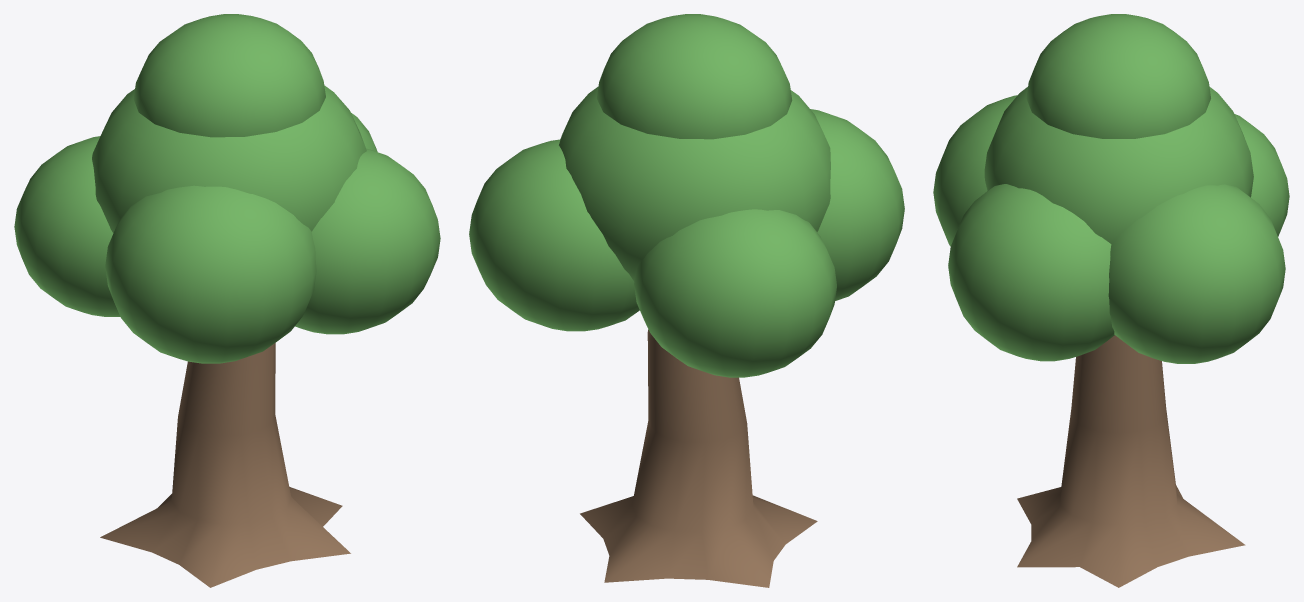
Rendered from stylized_ancient_oak.glb.
3 views of the same model, side by side, from view 1: azimuth 30°, elevation 25°; view 2: azimuth 150°, elevation 25°; view 3: azimuth 270°, elevation 25° (orthographic).
Visible parts, largest first — view 1: Sphere.003, OakTrunk, Sphere, Sphere.005, Sphere.004, Sphere.002; view 2: OakTrunk, Sphere, Sphere.002, Sphere.001, Sphere.005, Sphere.003; view 3: OakTrunk, Sphere.001, Sphere.004, Sphere, Sphere.005, Sphere.003, Sphere.002.
Boxes of the visible parts, bbox=[...] form: Sphere.003: bbox=[105, 185, 316, 363]; OakTrunk: bbox=[100, 343, 350, 587]; Sphere: bbox=[92, 85, 366, 232]; Sphere.005: bbox=[133, 14, 325, 137]; Sphere.004: bbox=[295, 148, 440, 334]; Sphere.002: bbox=[14, 136, 120, 316]; OakTrunk: bbox=[580, 329, 817, 587]; Sphere: bbox=[559, 87, 830, 281]; Sphere.002: bbox=[634, 209, 836, 377]; Sphere.001: bbox=[469, 139, 639, 331]; Sphere.005: bbox=[596, 14, 792, 139]; Sphere.003: bbox=[810, 109, 904, 300]; OakTrunk: bbox=[1017, 335, 1245, 587]; Sphere.001: bbox=[1108, 184, 1285, 363]; Sphere.004: bbox=[948, 184, 1114, 361]; Sphere: bbox=[984, 87, 1253, 243]; Sphere.005: bbox=[1026, 14, 1210, 138]; Sphere.003: bbox=[933, 95, 1017, 246]; Sphere.002: bbox=[1234, 114, 1289, 236].
Bounding box in the file's own units: 10.42 × 15 × 9.52.
